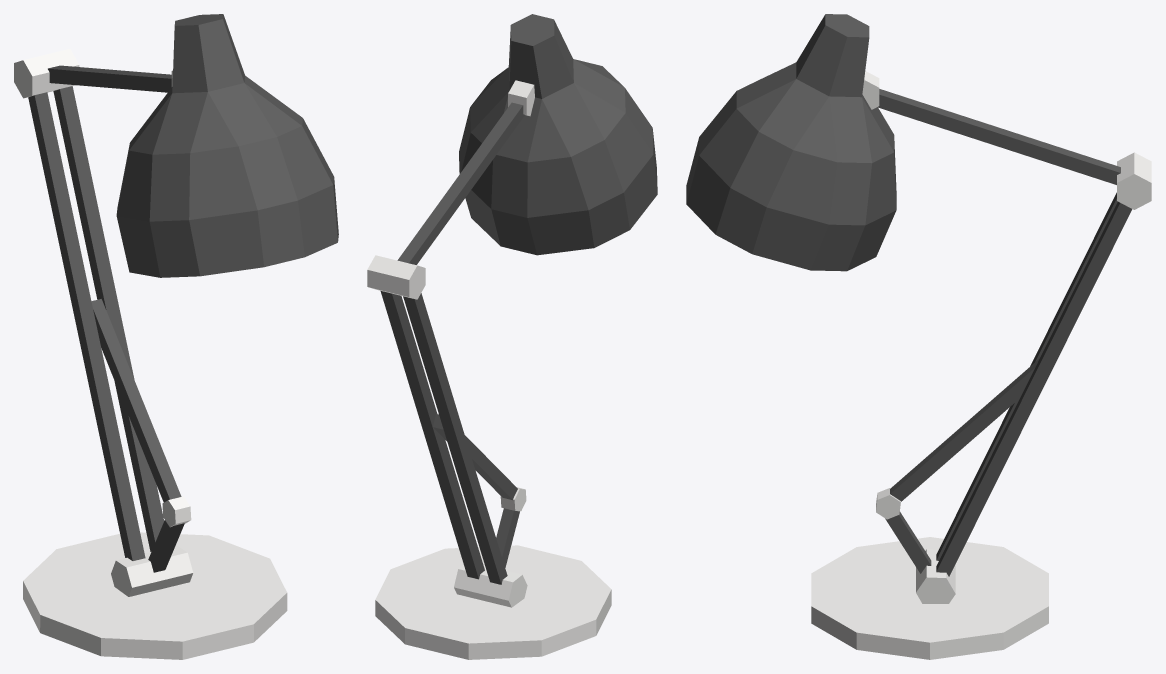
File: Tablelamp.fbx
The picture shows the model from 3 angles, left to right: view 1: azimuth 30°, elevation 25°; view 2: azimuth 150°, elevation 25°; view 3: azimuth 270°, elevation 25°; orthographic projection. The views are drawn at different scales.
Visible parts, largest first — view 1: Tablelamp; view 2: Tablelamp; view 3: Tablelamp.
Part boxes in pixels (left/top/right/bottom): Tablelamp: left=14, top=14, right=338, bottom=659; Tablelamp: left=367, top=14, right=657, bottom=659; Tablelamp: left=686, top=14, right=1151, bottom=659.
Size of the model in its own units: 19.21 by 35.74 by 49.79.
